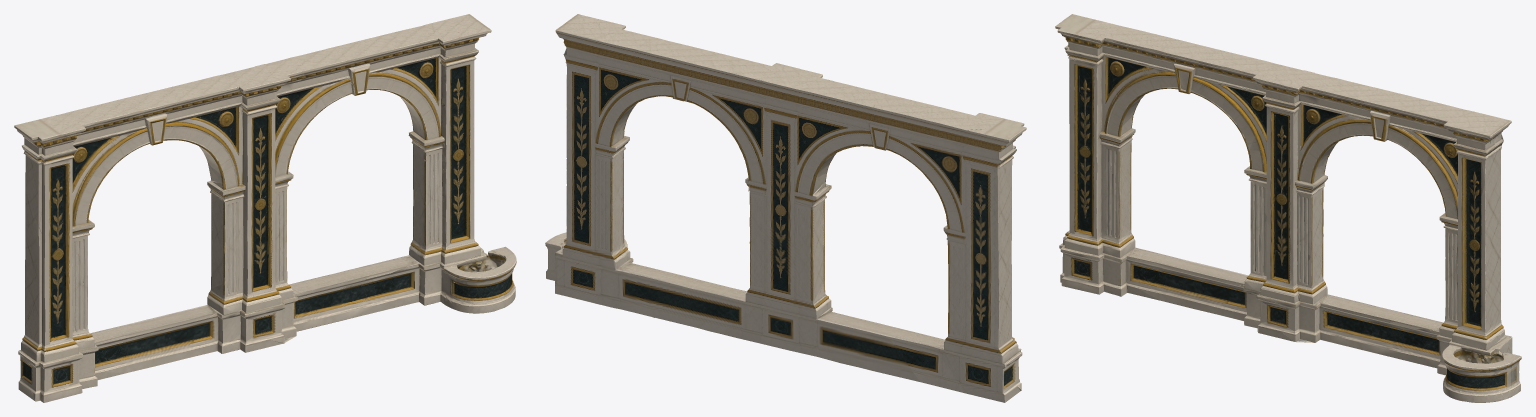
File: garden-arcade.glb
3 views of the same model, side by side, from view 1: azimuth 30°, elevation 25°; view 2: azimuth 150°, elevation 25°; view 3: azimuth 330°, elevation 25° (orthographic). The views are drawn at different scales.
Parts seen in each view (by area): view 1: garden_arcade_mesh; view 2: garden_arcade_mesh; view 3: garden_arcade_mesh.
Part boxes in pixels (x1,y1,x2,y2): garden_arcade_mesh: [14, 14, 516, 402]; garden_arcade_mesh: [545, 14, 1026, 402]; garden_arcade_mesh: [1055, 14, 1521, 402].
Bounding box in the file's own units: 5.66 × 3 × 0.8184.
Materials: 1 (1 with a texture image).
